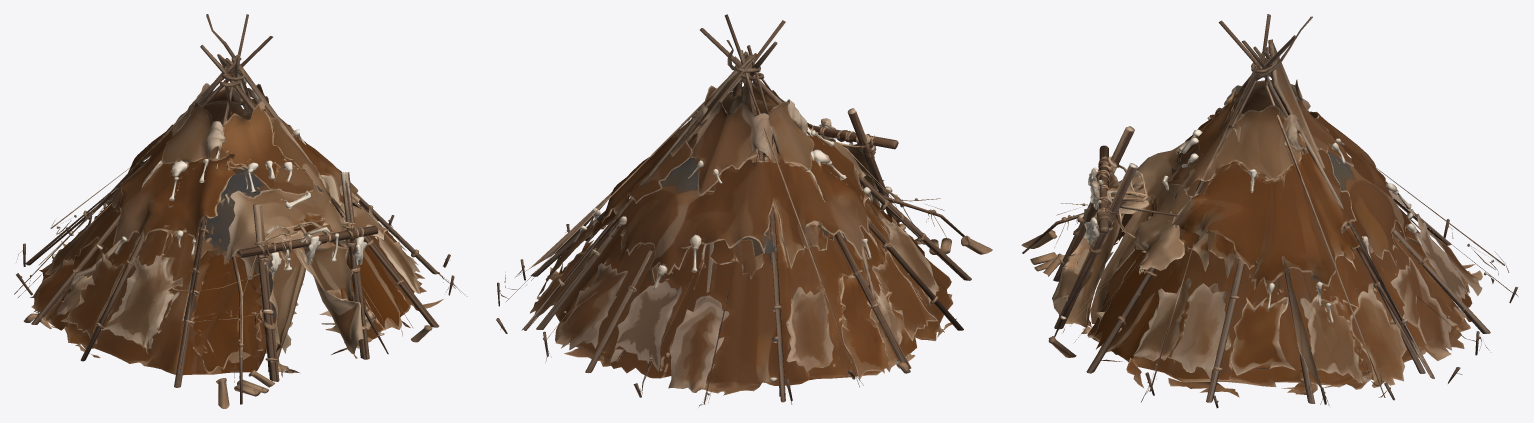
The model's file is zelt_original.glb.
3 renders of one model, left to right at view 1: azimuth 30°, elevation 25°; view 2: azimuth 150°, elevation 25°; view 3: azimuth 270°, elevation 25°, orthographic. The views are drawn at different scales.
Size of the model in its own units: 0.9028 by 0.6157 by 0.9521.
1 material, 1 textured.
